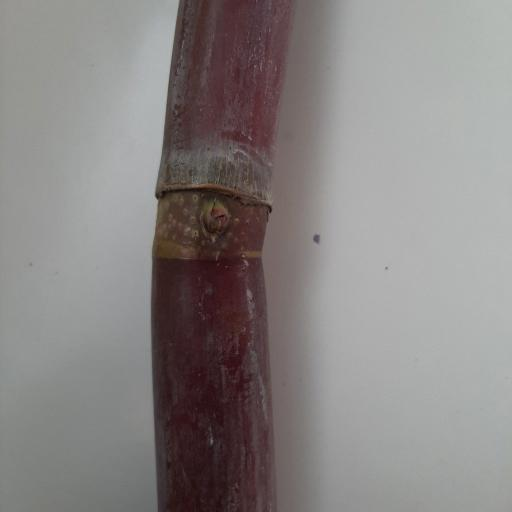Bud: (199, 197, 232, 242)
